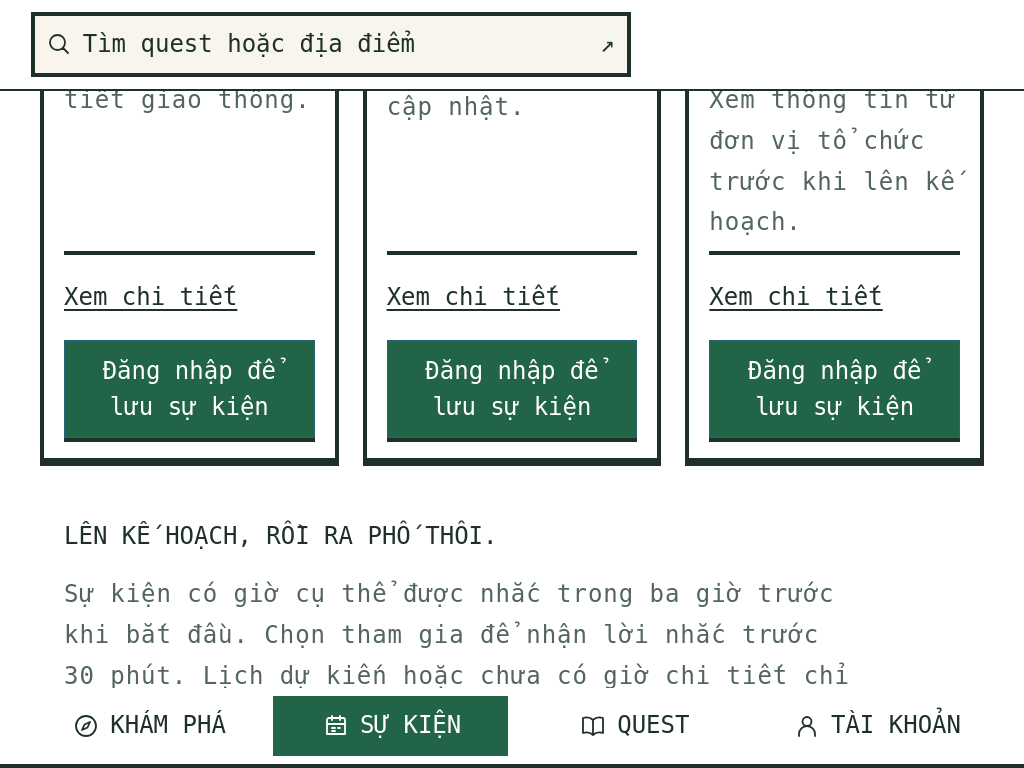
Test case: opens event save authentication over the same event page and closes with Escape
(page scrolled)
Click the 1st link "Đăng nhập để lưu sự kiện" at (189,389), box [64, 340, 315, 438]
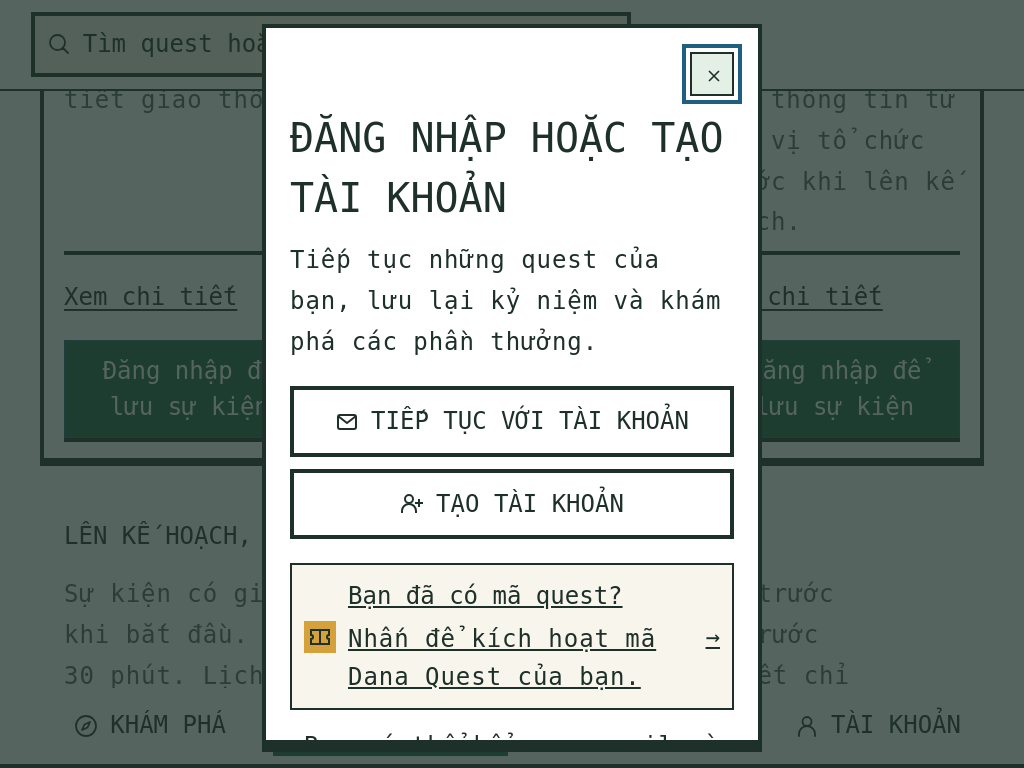
Expected: the dialog is shown
Press Escape in the dialog, box [262, 24, 762, 744]
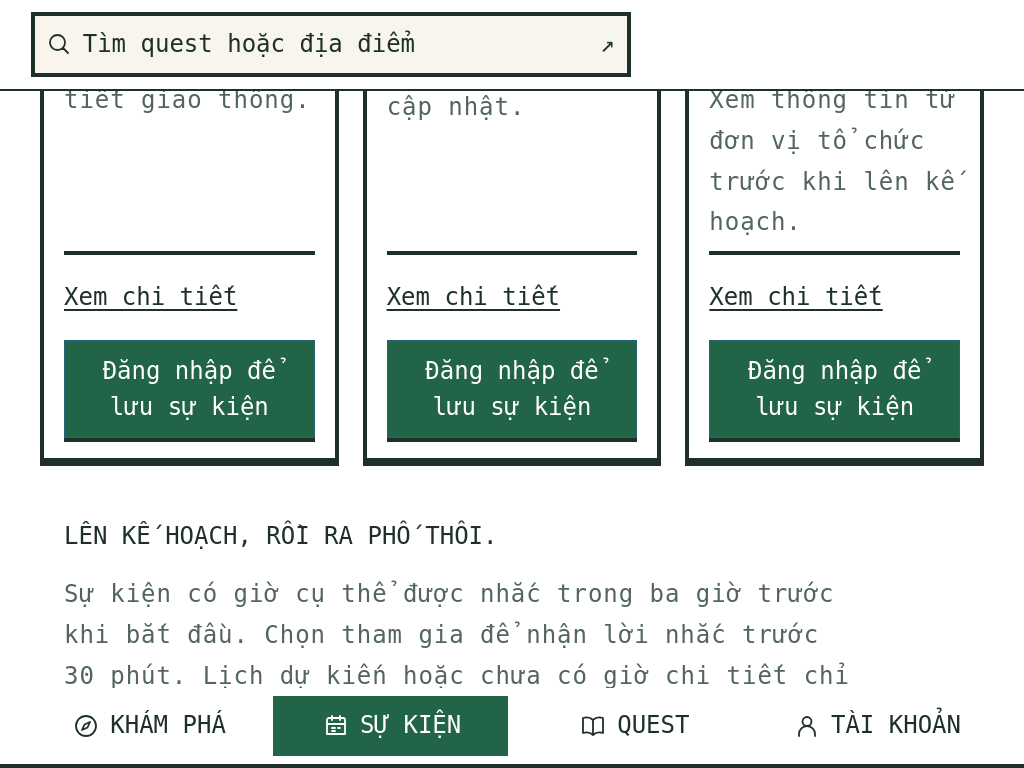
Expected: the dialog is gone
